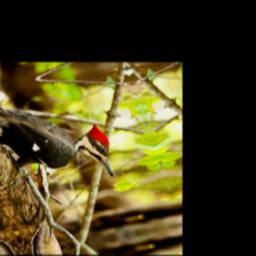Woodpecker: (0, 85, 120, 198)
